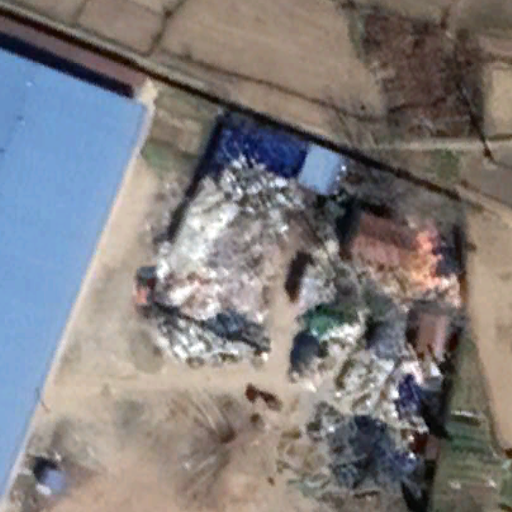msw: (141, 157, 284, 371), (300, 302, 445, 427)
